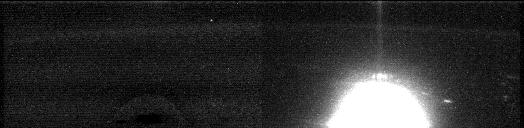positive: (367, 69, 397, 81)
